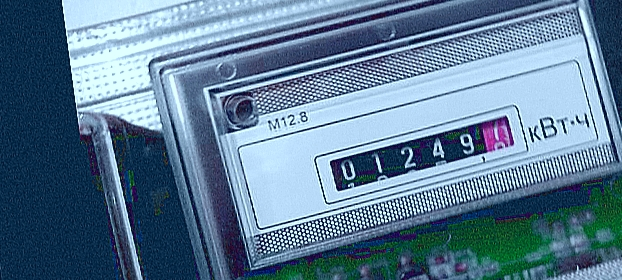0: (334, 154, 356, 182)
1: (366, 149, 384, 176)
2: (395, 142, 418, 171)
4: (426, 132, 447, 161)
7: (484, 117, 502, 143)
9: (455, 128, 476, 156)
screen: (303, 104, 544, 209)
